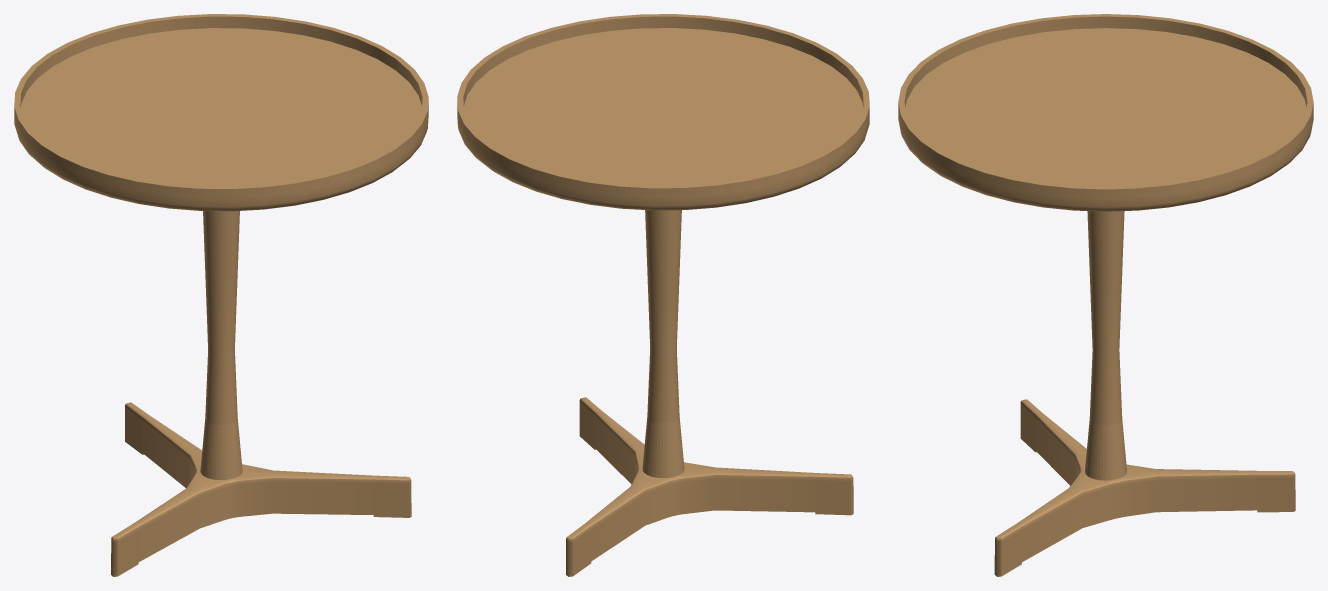
The model's file is Table.fbx.
The picture shows the model from 3 angles, left to right: view 1: azimuth 30°, elevation 25°; view 2: azimuth 150°, elevation 25°; view 3: azimuth 270°, elevation 25°; orthographic projection.
Parts seen in each view (by area): view 1: pCylinder1, polySurface1; view 2: pCylinder1, polySurface1; view 3: pCylinder1, polySurface1.
Boxes of the visible parts, left/top/right/bottom form: pCylinder1: left=14, top=14, right=428, bottom=479; polySurface1: left=111, top=402, right=411, bottom=576; pCylinder1: left=457, top=14, right=869, bottom=477; polySurface1: left=566, top=397, right=853, bottom=576; pCylinder1: left=898, top=14, right=1313, bottom=480; polySurface1: left=994, top=399, right=1295, bottom=576.
Size of the model in its own units: 10.08 by 10.96 by 10.08.
